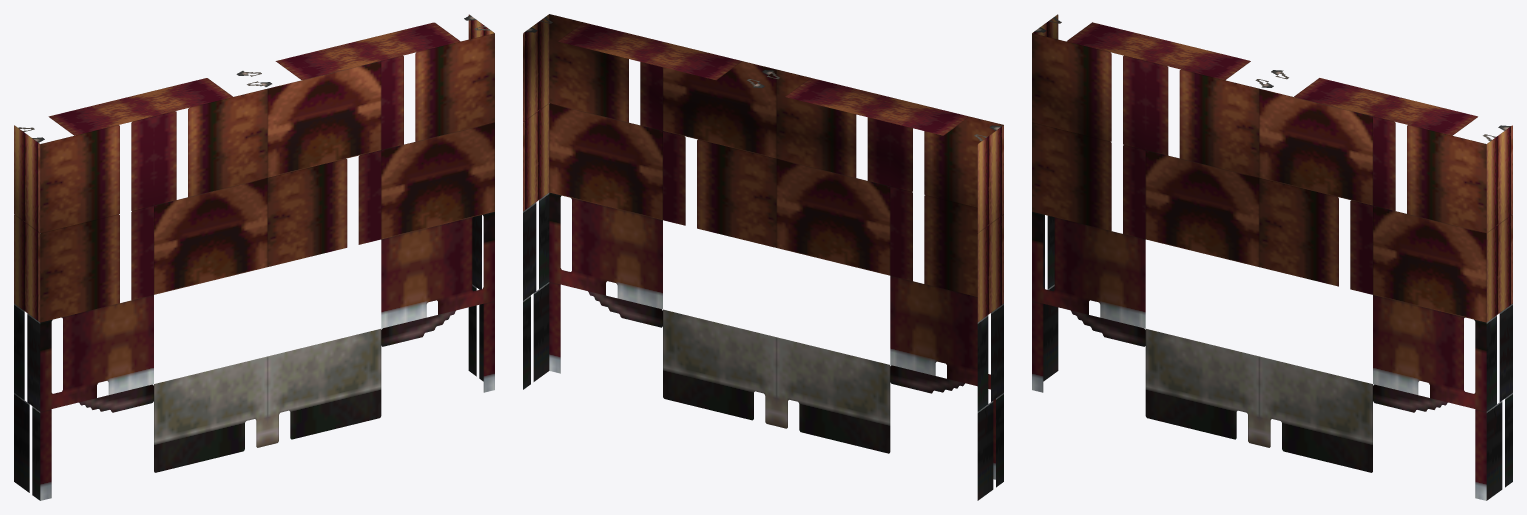
3 renders of one model, left to right at view 1: azimuth 30°, elevation 25°; view 2: azimuth 150°, elevation 25°; view 3: azimuth 330°, elevation 25°, orthographic.
Visible parts, largest first — view 1: T1L4M008_12; view 2: T1L4M008_12; view 3: T1L4M008_12.
Boxes of the visible parts, bbox=[...] form: T1L4M008_12: bbox=[14, 14, 494, 500]; T1L4M008_12: bbox=[523, 14, 1003, 500]; T1L4M008_12: bbox=[1032, 14, 1512, 500].
Bounding box in the file's own units: 4 × 3 × 0.3994.
